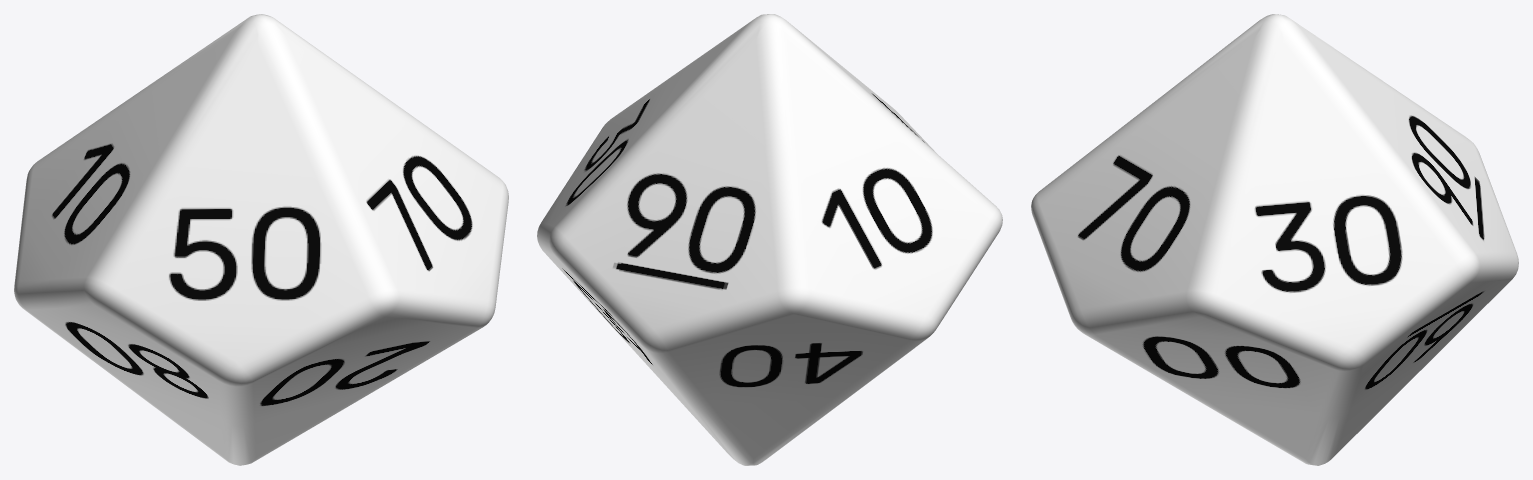
File: D100_Vol.FBX
The picture shows the model from 3 angles, left to right: view 1: azimuth 30°, elevation 25°; view 2: azimuth 150°, elevation 25°; view 3: azimuth 270°, elevation 25°; orthographic projection. The views are drawn at different scales.
Visible parts, largest first — view 1: Dado100Numb; view 2: Dado100Numb; view 3: Dado100Numb.
Boxes of the visible parts, bbox=[...] form: Dado100Numb: bbox=[14, 14, 508, 465]; Dado100Numb: bbox=[537, 14, 1002, 465]; Dado100Numb: bbox=[1031, 14, 1518, 465].
Bounding box in the file's own units: 241 × 254 × 251.
